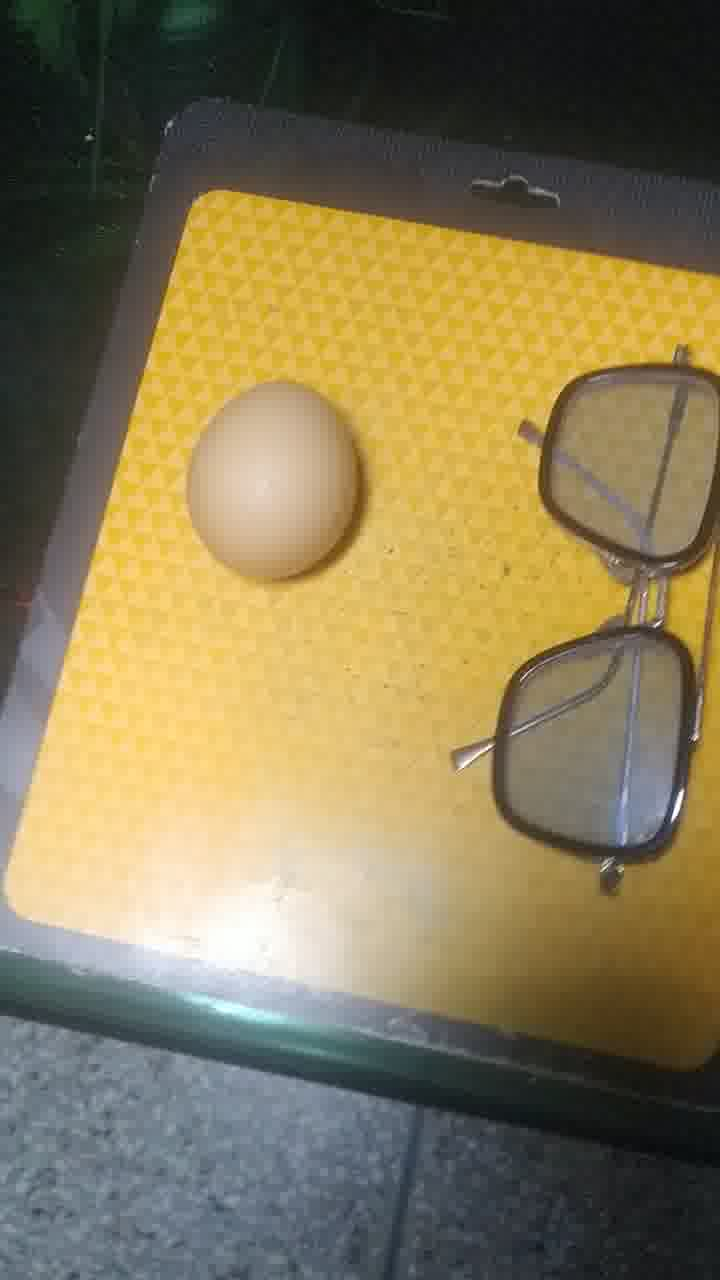egg: (183, 370, 377, 587)
sunglass: (477, 341, 720, 888)
